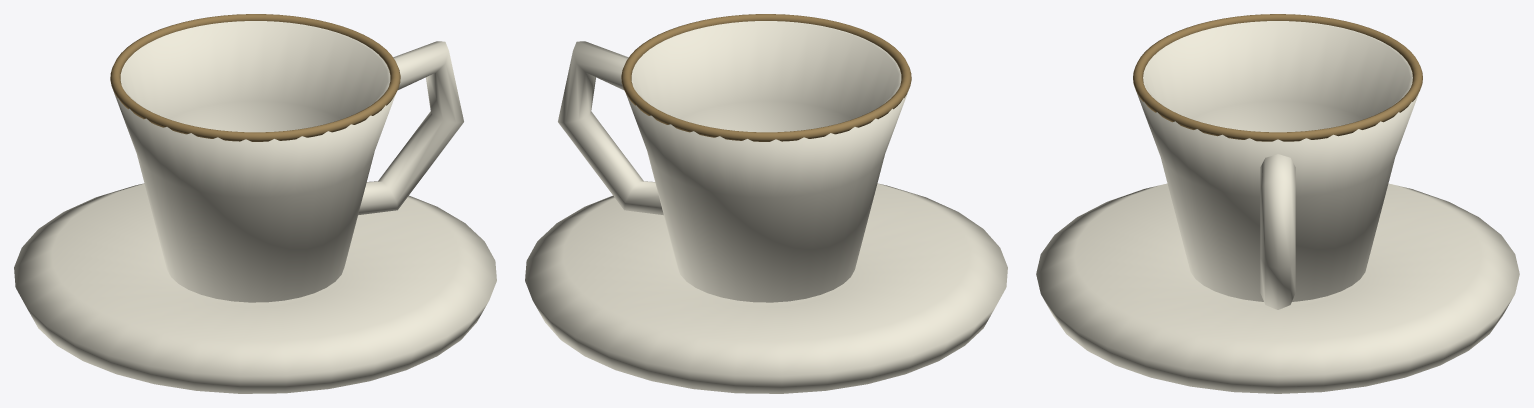
File: Teacup_Saucer.fbx
3 views of the same model, side by side, from view 1: azimuth 30°, elevation 25°; view 2: azimuth 150°, elevation 25°; view 3: azimuth 270°, elevation 25° (orthographic).
Parts seen in each view (by area): view 1: Saucer.001, Hollow cup.001, Cup handle.001, Cup gold rim.001; view 2: Saucer.001, Hollow cup.001, Cup handle.001, Cup gold rim.001; view 3: Saucer.001, Hollow cup.001, Cup gold rim.001, Cup handle.001.
Boxes of the visible parts, left/top/right/bottom form: Saucer.001: left=14, top=183, right=496, bottom=393; Hollow cup.001: left=113, top=21, right=395, bottom=302; Cup handle.001: left=358, top=41, right=463, bottom=215; Cup gold rim.001: left=110, top=14, right=400, bottom=141; Saucer.001: left=525, top=183, right=1007, bottom=393; Hollow cup.001: left=626, top=21, right=908, bottom=302; Cup handle.001: left=558, top=41, right=663, bottom=215; Cup gold rim.001: left=621, top=14, right=911, bottom=141; Saucer.001: left=1036, top=183, right=1519, bottom=393; Hollow cup.001: left=1136, top=21, right=1419, bottom=301; Cup gold rim.001: left=1133, top=14, right=1422, bottom=141; Cup handle.001: left=1260, top=154, right=1295, bottom=309.
Size of the model in its own units: 0.19 by 0.097 by 0.19.
